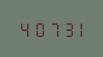four: (18, 20, 30, 37)
one: (70, 20, 82, 37)
seven: (44, 20, 56, 37)
three: (57, 20, 69, 37)
zero: (31, 20, 43, 37)
